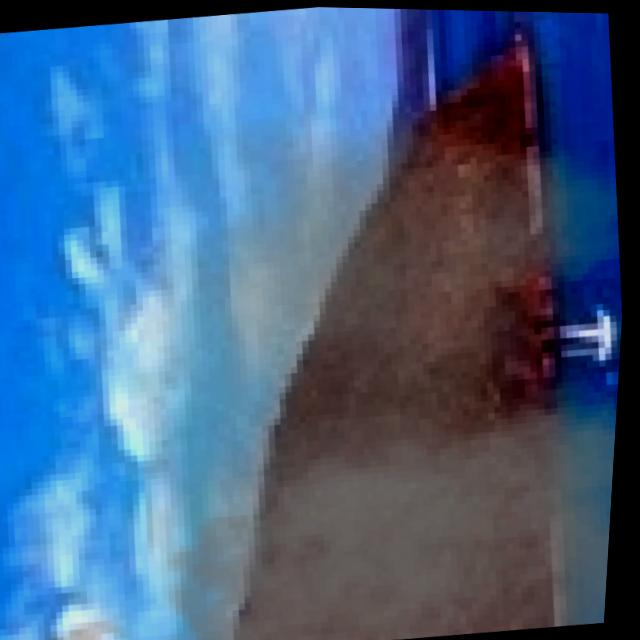smoke: (0, 67, 637, 640)
